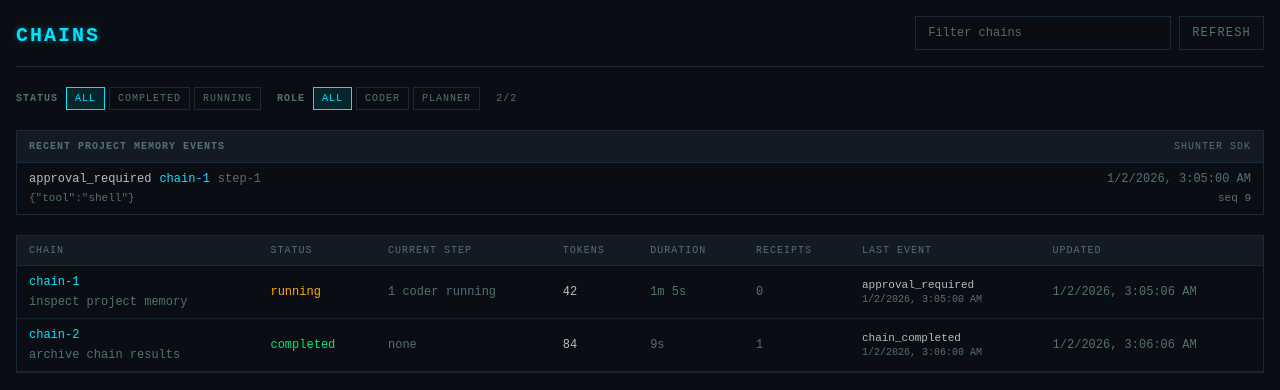
Test: ChainsPage › filters chain rows by role
Click the button "planner": (447, 99) x1=413 y1=87 x2=480 y2=110
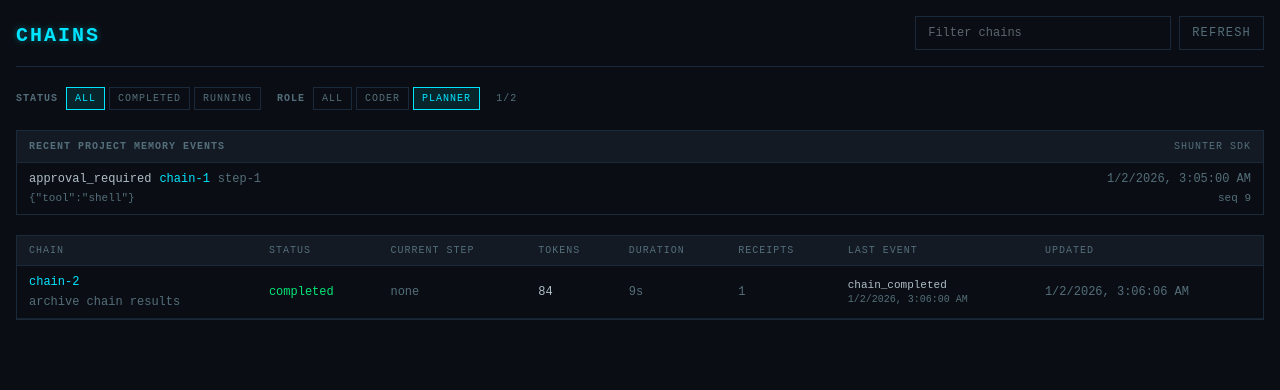
Check: the text "archive chain results" is shown, box x1=29 y1=295 x2=180 y2=309
Check: the text "inspect project memory" is not shown
